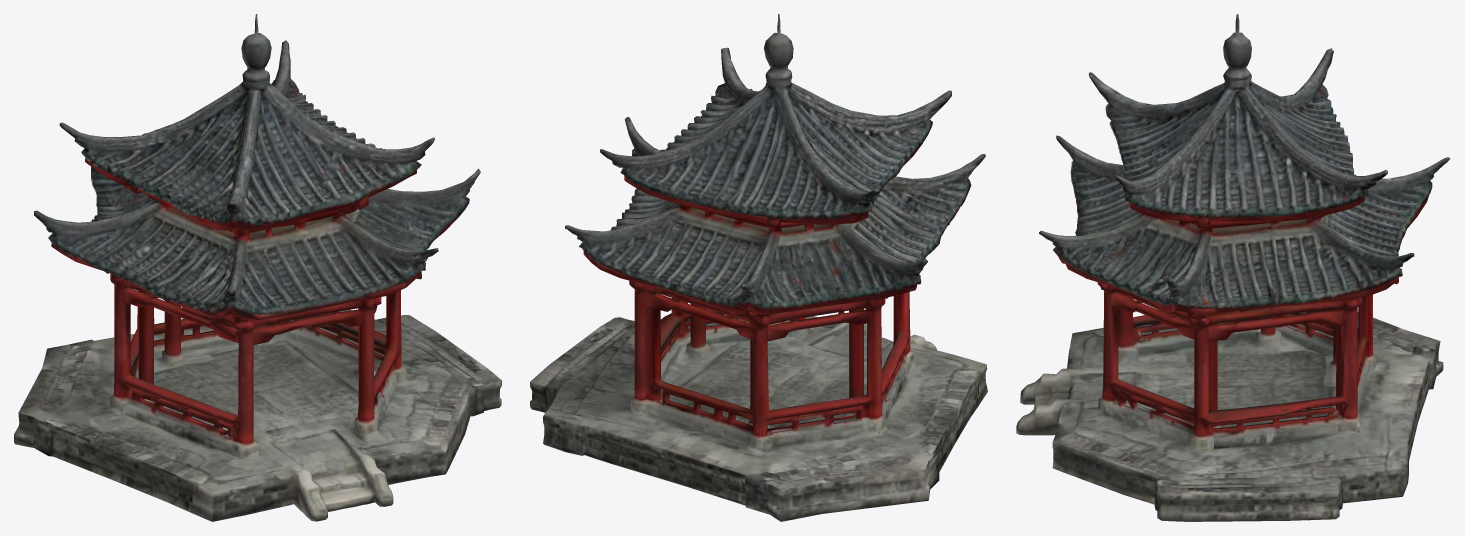
File: pavilion.glb
3 renders of one model, left to right at view 1: azimuth 30°, elevation 25°; view 2: azimuth 150°, elevation 25°; view 3: azimuth 270°, elevation 25°, orthographic.
Parts seen in each view (by area): view 1: tripo_node_5f9f4915-adeb-4dff-af68-eb5bafa6c7e8; view 2: tripo_node_5f9f4915-adeb-4dff-af68-eb5bafa6c7e8; view 3: tripo_node_5f9f4915-adeb-4dff-af68-eb5bafa6c7e8.
Part boxes in pixels (left/top/right/bottom): tripo_node_5f9f4915-adeb-4dff-af68-eb5bafa6c7e8: left=14, top=14, right=501, bottom=521; tripo_node_5f9f4915-adeb-4dff-af68-eb5bafa6c7e8: left=530, top=14, right=987, bottom=521; tripo_node_5f9f4915-adeb-4dff-af68-eb5bafa6c7e8: left=1016, top=14, right=1450, bottom=521.
Size of the model in its own units: 0.981 by 0.958 by 0.9234.
Materials: 1 (1 with a texture image).
